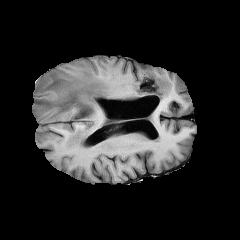glioma: (32, 69, 171, 148)
